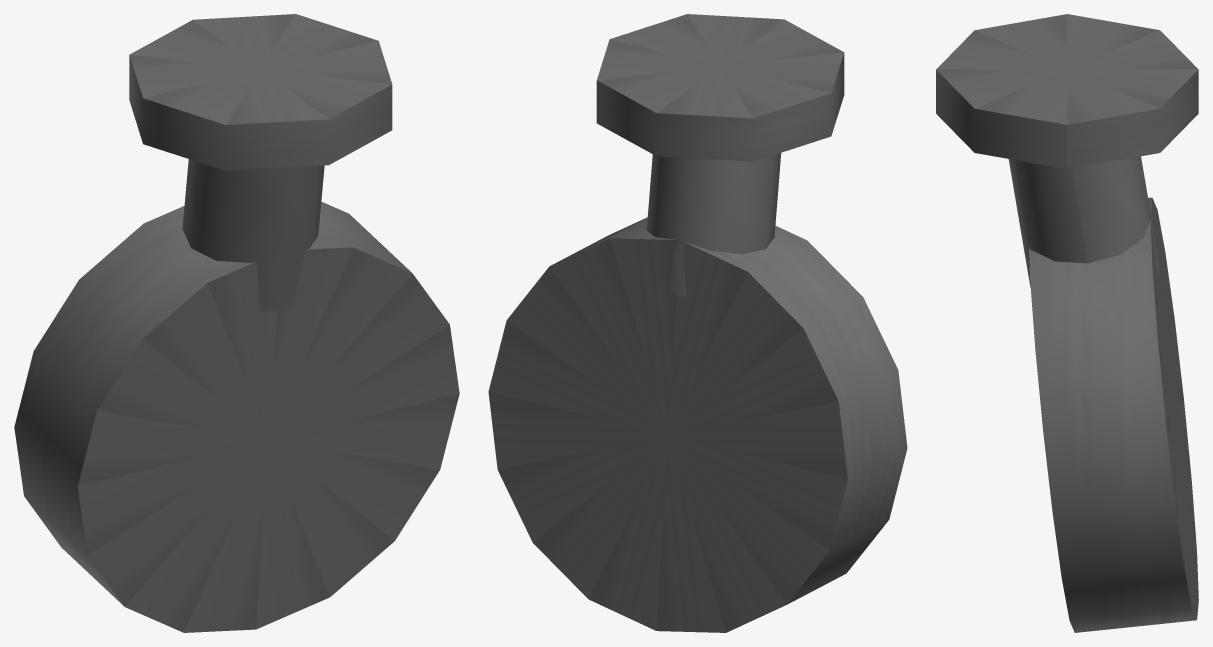
The model's file is mastarmcurve_5x1_c4_up.obj.
The picture shows the model from 3 angles, left to right: view 1: azimuth 30°, elevation 25°; view 2: azimuth 150°, elevation 25°; view 3: azimuth 270°, elevation 25°; orthographic projection. The views are drawn at different scales.
Visible parts, largest first — view 1: mastarm_5x1_c4_up; view 2: mastarm_5x1_c4_up; view 3: mastarm_5x1_c4_up.
Part boxes in pixels (x1,y1,x2,y2): mastarm_5x1_c4_up: (14,14,459,632); mastarm_5x1_c4_up: (488,14,907,632); mastarm_5x1_c4_up: (936,14,1198,632).
Bounding box in the file's own units: 0.6482 × 0.9138 × 0.4003.
